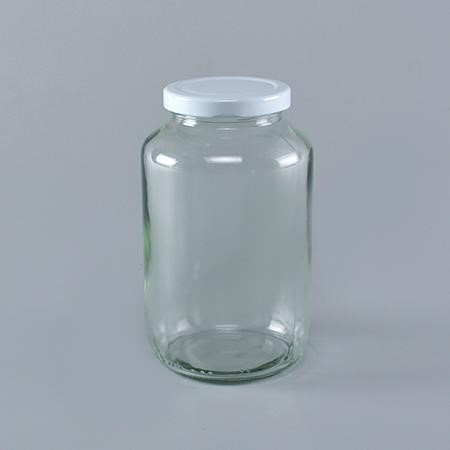glass_bottle: (137, 73, 320, 388)
